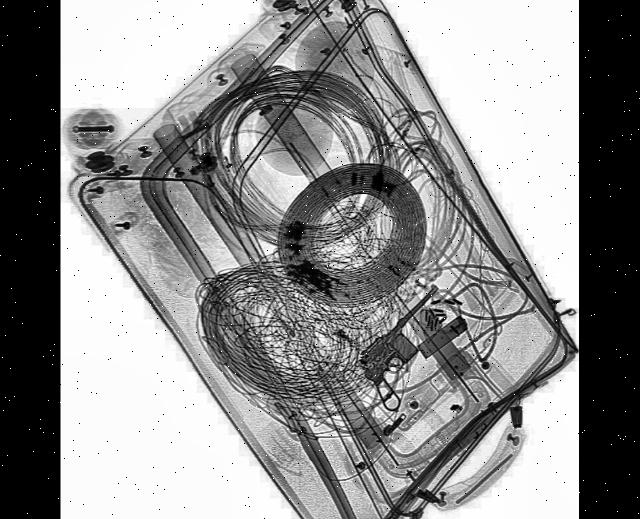Gun: (353, 278, 468, 418)
